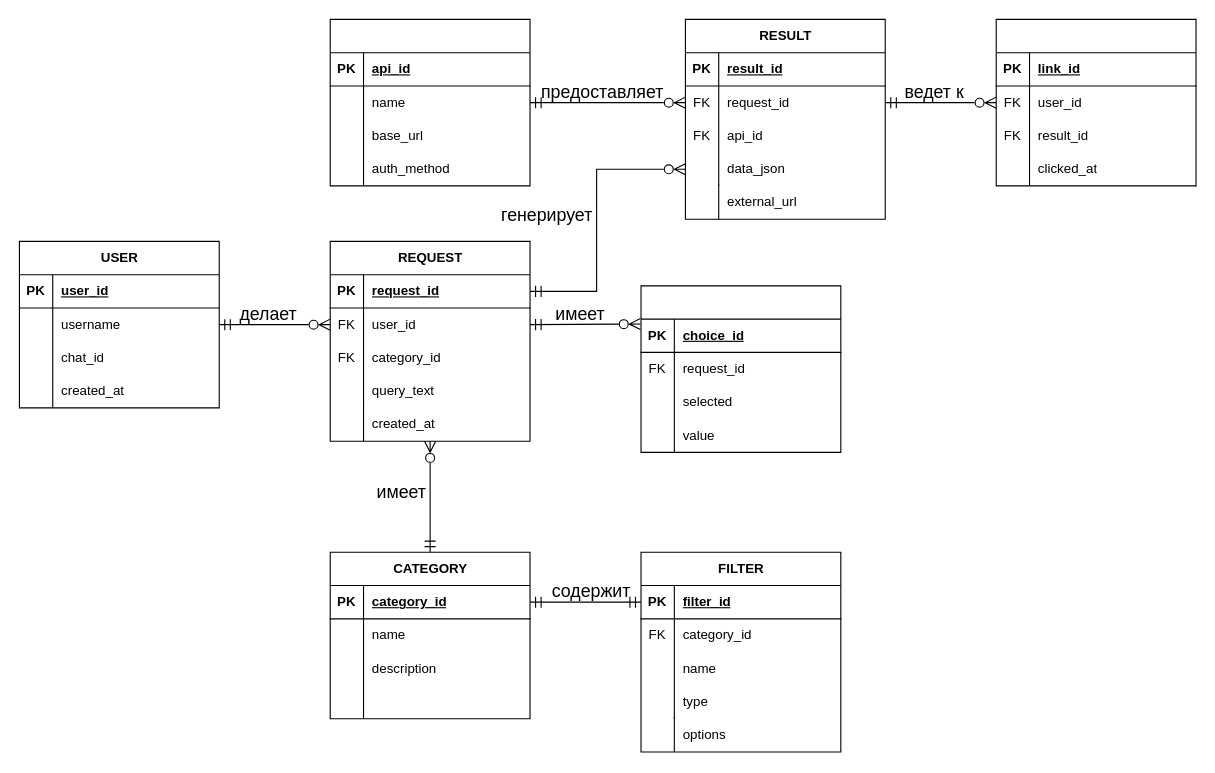
The diagram is 1215 pixels wide and 773 high, and some of its shapes have lost their labels. Each missing label, with the box of its shape:
EXTERNAL_API: (329, 18, 530, 186)
MULTICHOICE: (640, 285, 841, 452)
SENT_LINK: (995, 18, 1196, 186)
